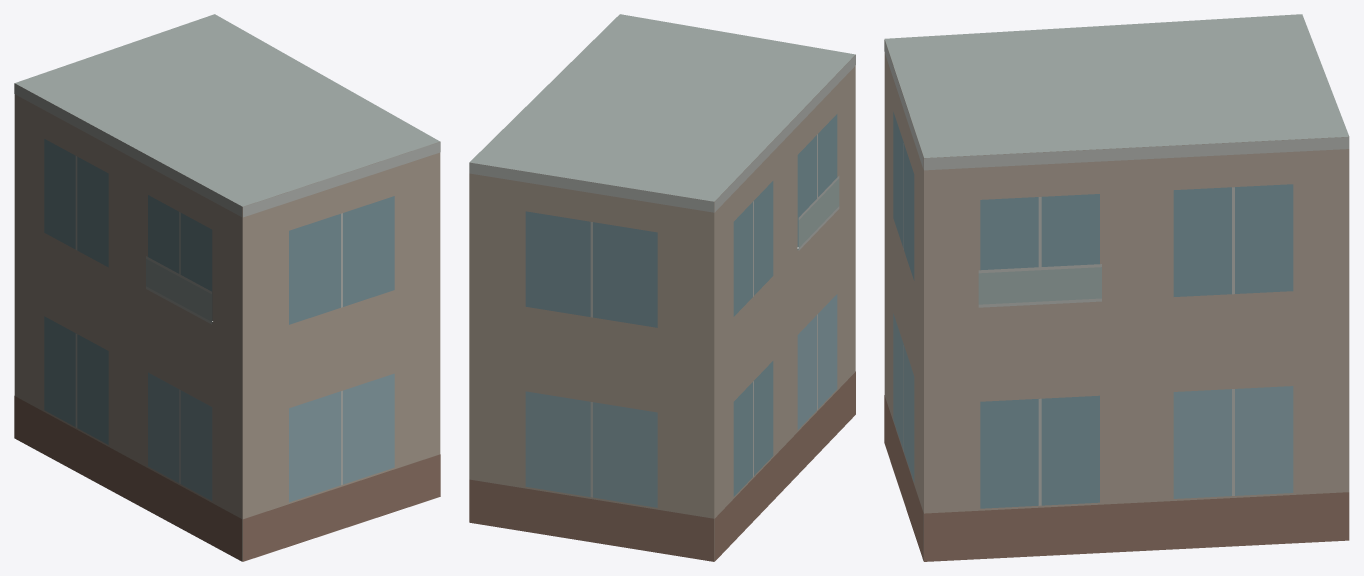
File: survey-upis-33028567.glb
3 renders of one model, left to right at view 1: azimuth 30°, elevation 25°; view 2: azimuth 150°, elevation 25°; view 3: azimuth 270°, elevation 25°, orthographic. The views are drawn at different scales.
Parts seen in each view (by area): view 1: survey-upis-33028567.tmp; view 2: survey-upis-33028567.tmp; view 3: survey-upis-33028567.tmp.
Part boxes in pixels (x1,y1,x2,y2): survey-upis-33028567.tmp: (14,14,440,561); survey-upis-33028567.tmp: (469,14,855,561); survey-upis-33028567.tmp: (884,14,1349,561).
Bounding box in the file's own units: 6.13 × 8 × 8.36.
